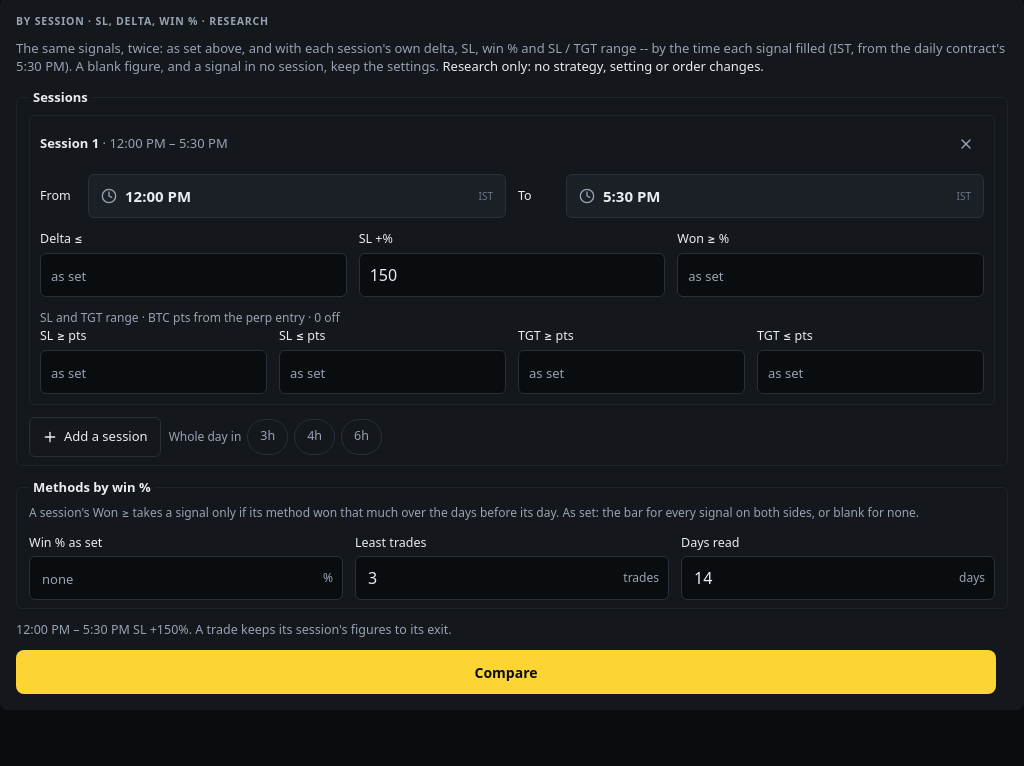
Test case: SessionStudy › [critical] to begin with the afternoon at SL +150%; sessions added, split and removed, each figure blank for as set; kept by the desk
Expected: the button with aria-label "Session 1: from" is shown, 88,174 -> 506,218
Expected: the number field named "Session 1: option SL, per cent over the premium" holds "150", 359,253 -> 665,297
Click the button "Add a session" at [95, 436], box 29,416 -> 161,456
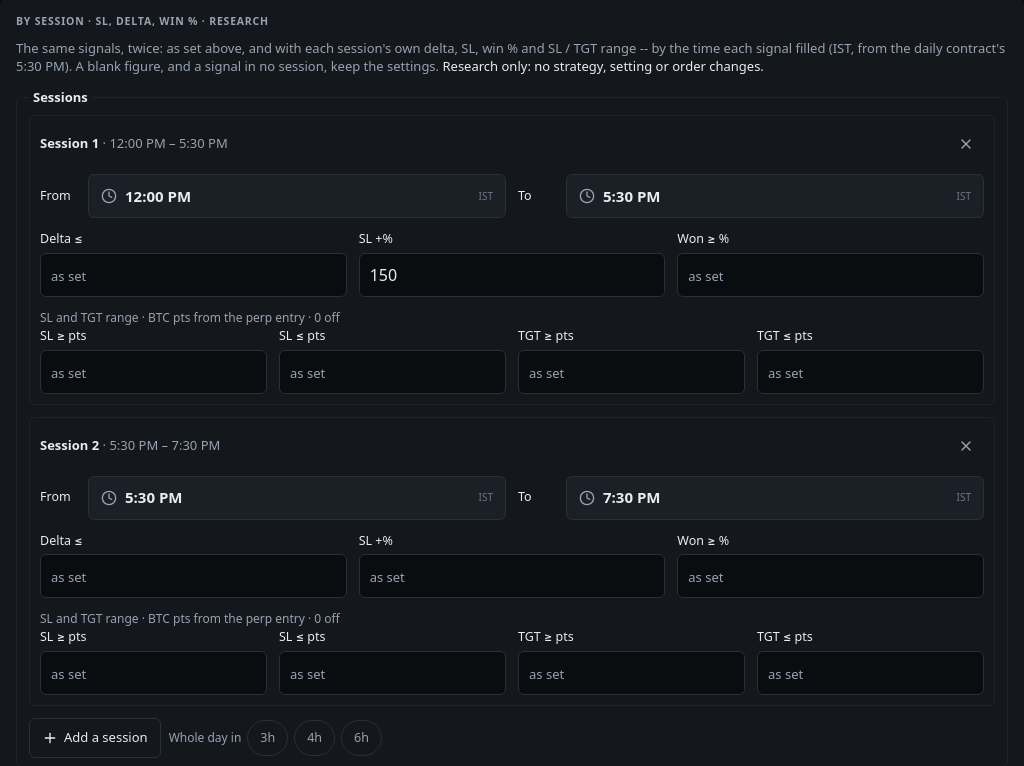
Expected: the text "Session 2" is shown, 40,436 -> 220,455
Type "0.08" into the number field named "Session 2: the most delta a strike sold may have" at [193, 576], box 40,554 -> 347,598
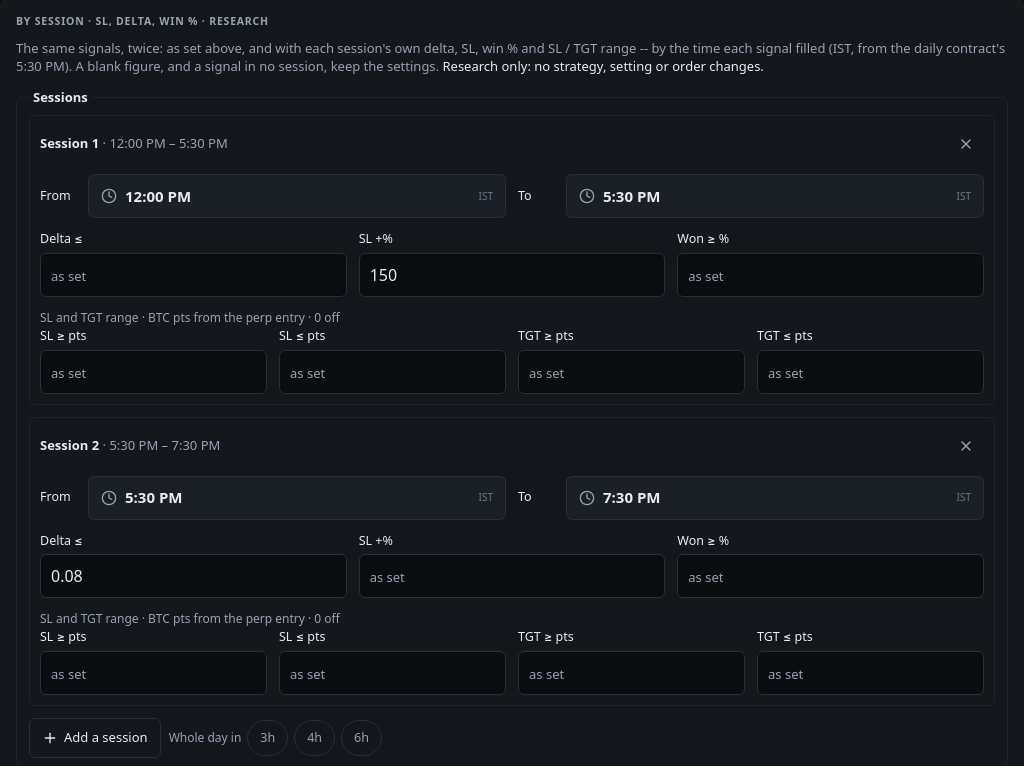
Click the button named "Remove session 1" at [966, 144], box 948,126 -> 984,162
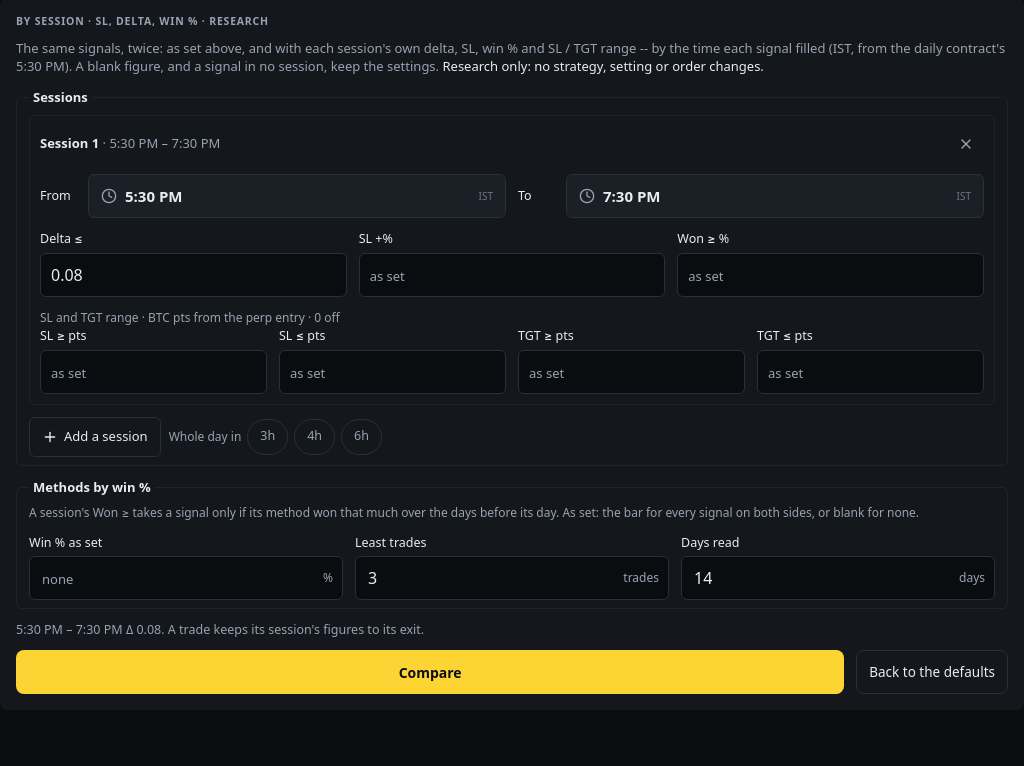
Expected: the text "Session 2" is gone
Click the button named "Split the whole day into 6-hour sessions" at [362, 436], box 341,418 -> 382,454
(page scrolled)
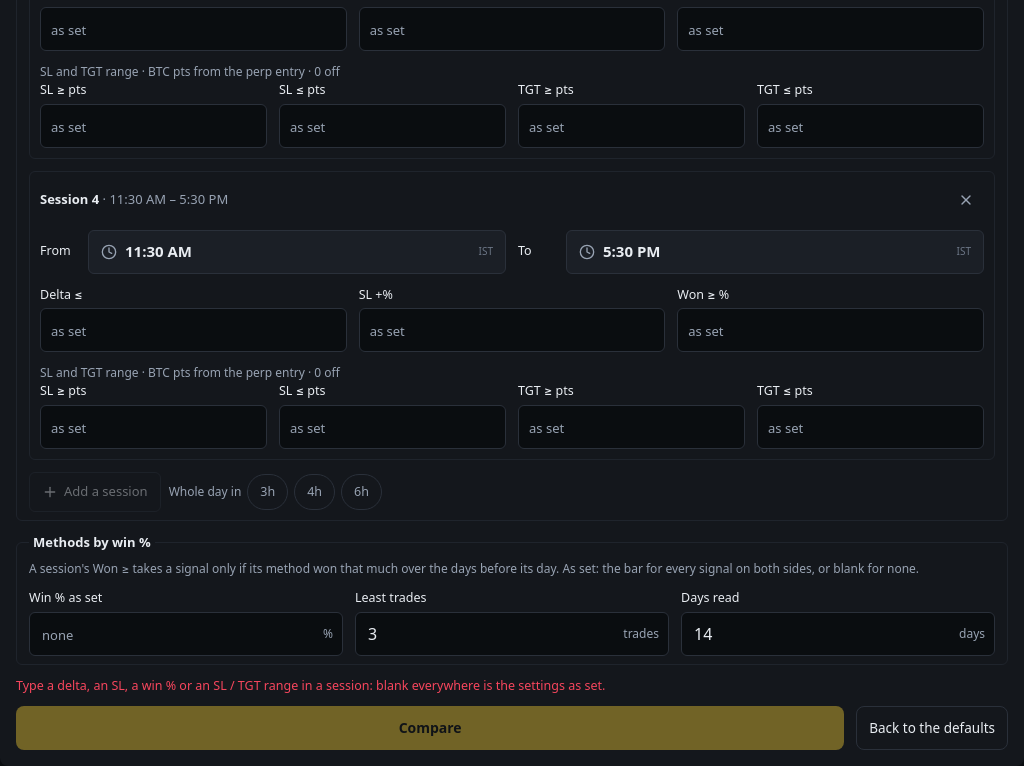
Expected: the number of buttons "Remove session" is 4
Expected: the message shows "blank everywhere is the settings as set", 16,677 -> 605,694
Expected: the button "Compare" is disabled, 16,706 -> 844,750
Click the button "Back to the defaults" at [932, 728], box 856,706 -> 1008,750
(page scrolled)
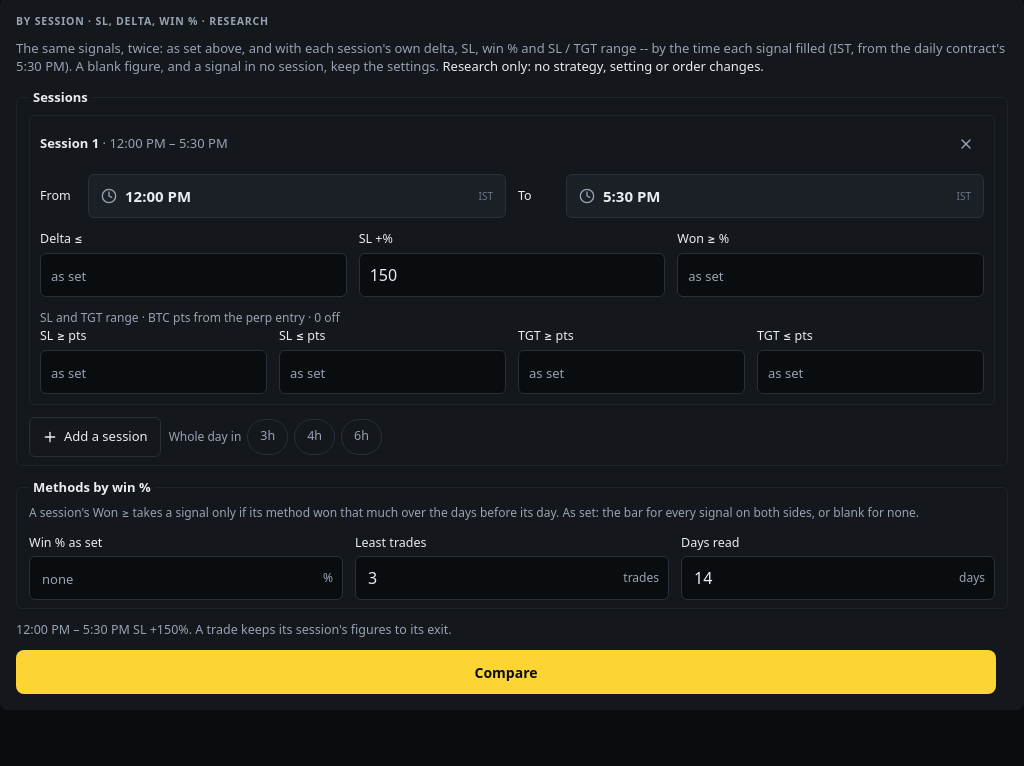
Expected: the number of buttons named "Remove session" is 1, 948,126 -> 984,162
